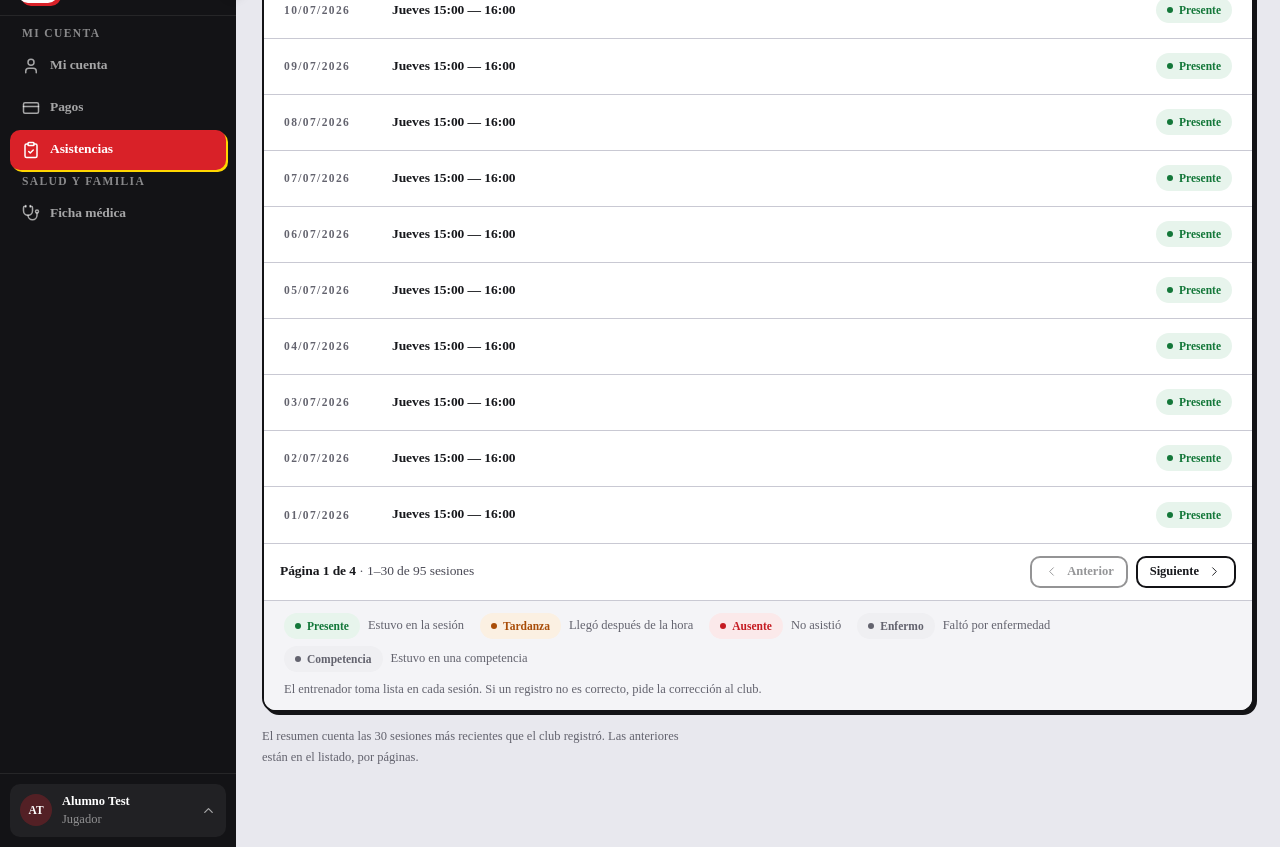
Test: StudentAttendancePage — older sessions › says so when an older page cannot be loaded, keeping the pager usable
(page scrolled)
expect the text "Página 1 de 4" is shown: met, box [280,564,356,578]
Click the button with aria-label "Página siguiente" at (1186, 572), box [1136,556,1236,588]
(page scrolled)
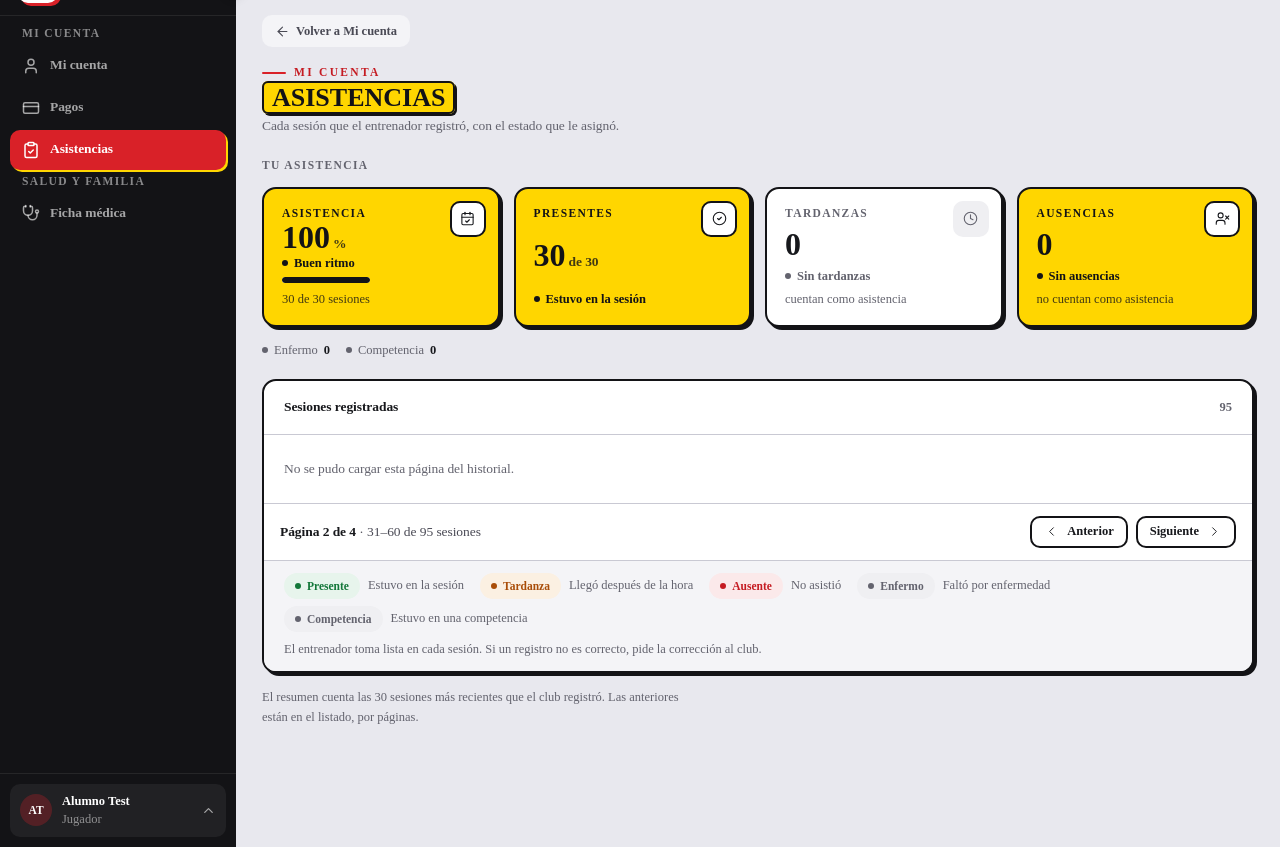
expect the text "No se pudo cargar esta página del historial." is shown: met, box [284,461,514,476]
expect the button with aria-label "Página anterior" is enabled: met, box [1030,516,1128,548]
